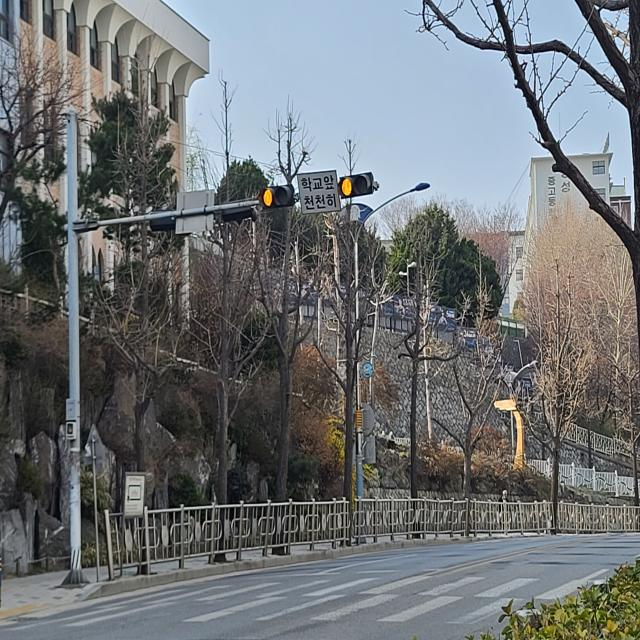Yellow Light: (341, 176, 352, 197), (263, 187, 273, 207)
